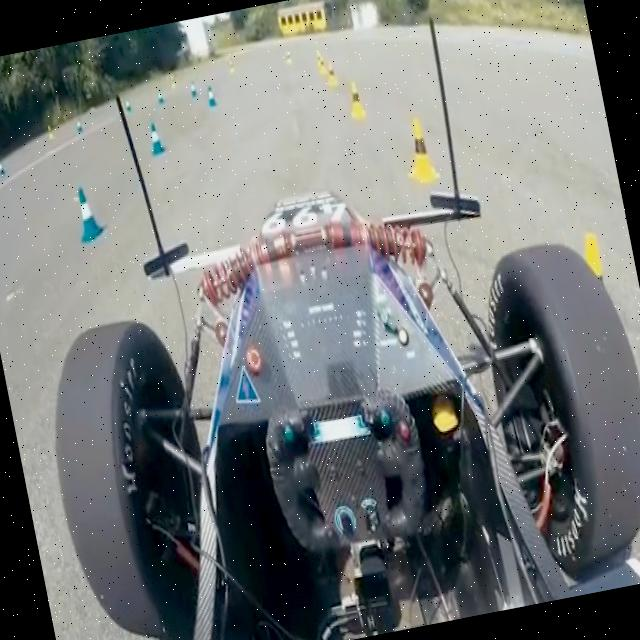blue_cone: (72, 182, 108, 244), (146, 120, 166, 156)
yellow_cone: (399, 113, 441, 187), (344, 81, 369, 121)
